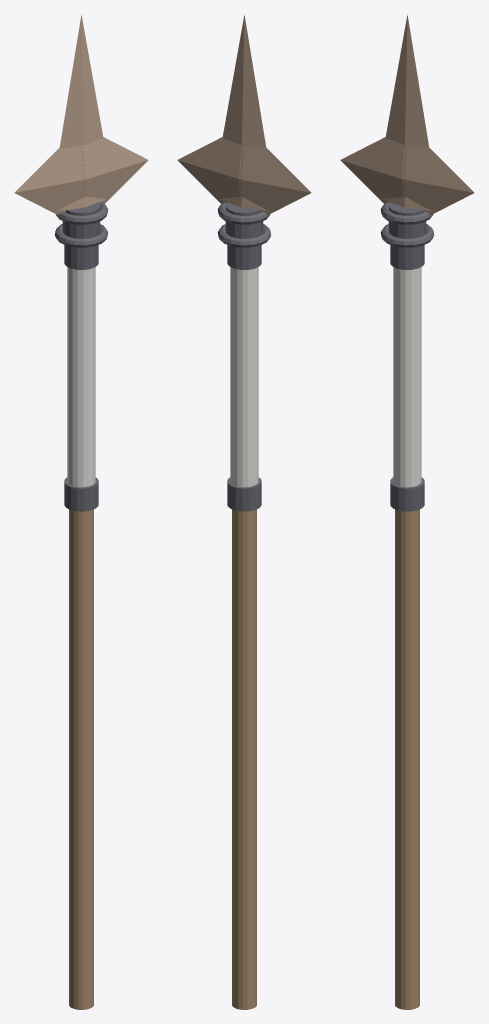
Rendered from tombak.fbx.
The picture shows the model from 3 angles, left to right: view 1: azimuth 30°, elevation 25°; view 2: azimuth 150°, elevation 25°; view 3: azimuth 330°, elevation 25°; orthographic projection.
Visible parts, largest first — view 1: Shaft_Lower, Shaft_Middle, Wing_Left, Blade_Upper, Wing_Right, Ring_Lower, Head_Base, Ring_Upper, Head_Ring1, Head_Ring2; view 2: Shaft_Lower, Shaft_Middle, Wing_Left, Blade_Upper, Wing_Right, Ring_Lower, Head_Base, Ring_Upper, Head_Ring1, Head_Ring2; view 3: Shaft_Lower, Shaft_Middle, Wing_Right, Blade_Upper, Wing_Left, Ring_Lower, Head_Base, Ring_Upper, Head_Ring1, Head_Ring2.
Boxes of the visible parts, bbox=[...] form: Shaft_Lower: bbox=[69, 509, 93, 1009]; Shaft_Middle: bbox=[67, 267, 95, 487]; Wing_Left: bbox=[14, 145, 86, 215]; Blade_Upper: bbox=[59, 14, 103, 148]; Wing_Right: bbox=[81, 137, 148, 203]; Ring_Lower: bbox=[64, 477, 98, 511]; Head_Base: bbox=[62, 202, 100, 238]; Ring_Upper: bbox=[64, 245, 98, 269]; Head_Ring1: bbox=[54, 224, 108, 247]; Head_Ring2: bbox=[55, 202, 108, 224]; Shaft_Lower: bbox=[232, 509, 256, 1009]; Shaft_Middle: bbox=[230, 267, 258, 487]; Wing_Left: bbox=[239, 145, 311, 215]; Blade_Upper: bbox=[222, 14, 266, 148]; Wing_Right: bbox=[177, 137, 244, 203]; Ring_Lower: bbox=[227, 477, 261, 511]; Head_Base: bbox=[225, 202, 263, 238]; Ring_Upper: bbox=[227, 245, 261, 269]; Head_Ring1: bbox=[217, 224, 271, 247]; Head_Ring2: bbox=[217, 202, 270, 224]; Shaft_Lower: bbox=[395, 509, 419, 1009]; Shaft_Middle: bbox=[393, 267, 421, 487]; Wing_Right: bbox=[402, 145, 474, 215]; Blade_Upper: bbox=[385, 14, 429, 148]; Wing_Left: bbox=[340, 137, 407, 203]; Ring_Lower: bbox=[390, 477, 424, 511]; Head_Base: bbox=[388, 202, 426, 238]; Ring_Upper: bbox=[390, 245, 424, 269]; Head_Ring1: bbox=[380, 224, 434, 247]; Head_Ring2: bbox=[380, 202, 433, 224].
Bounding box in the file's own units: 49 × 344 × 17.
